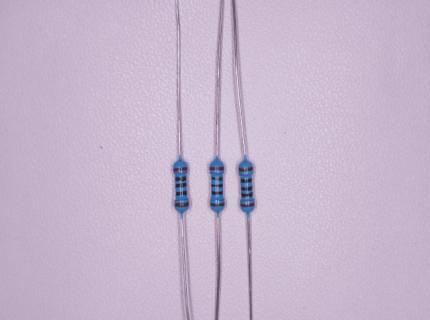Black band: (175, 190, 187, 197), (241, 192, 253, 198), (211, 176, 223, 181), (241, 186, 253, 191), (240, 178, 252, 183), (175, 176, 187, 181), (175, 183, 187, 188), (211, 191, 223, 195), (211, 184, 223, 187)
Brown band: (174, 202, 189, 207), (210, 202, 225, 207), (238, 167, 253, 172)
Red band: (173, 167, 188, 172), (240, 202, 255, 207), (209, 167, 224, 171)
